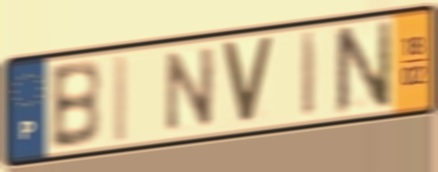B: (47, 57, 104, 154)
I: (109, 51, 132, 147), (299, 28, 321, 121)
N: (331, 16, 394, 120), (162, 43, 219, 137)
V: (218, 35, 277, 128)
